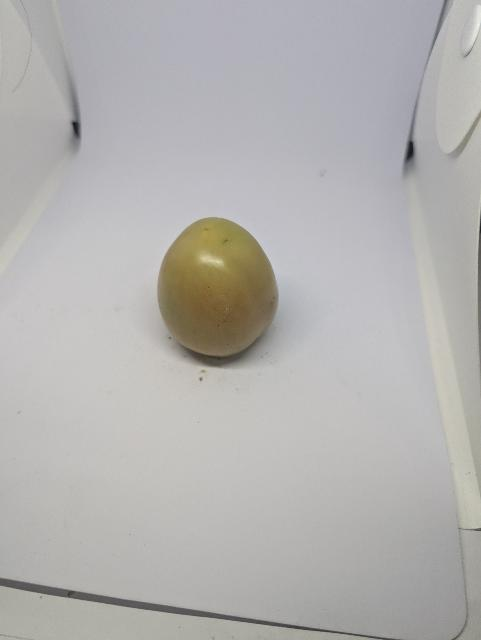breaker: (157, 218, 281, 363)
